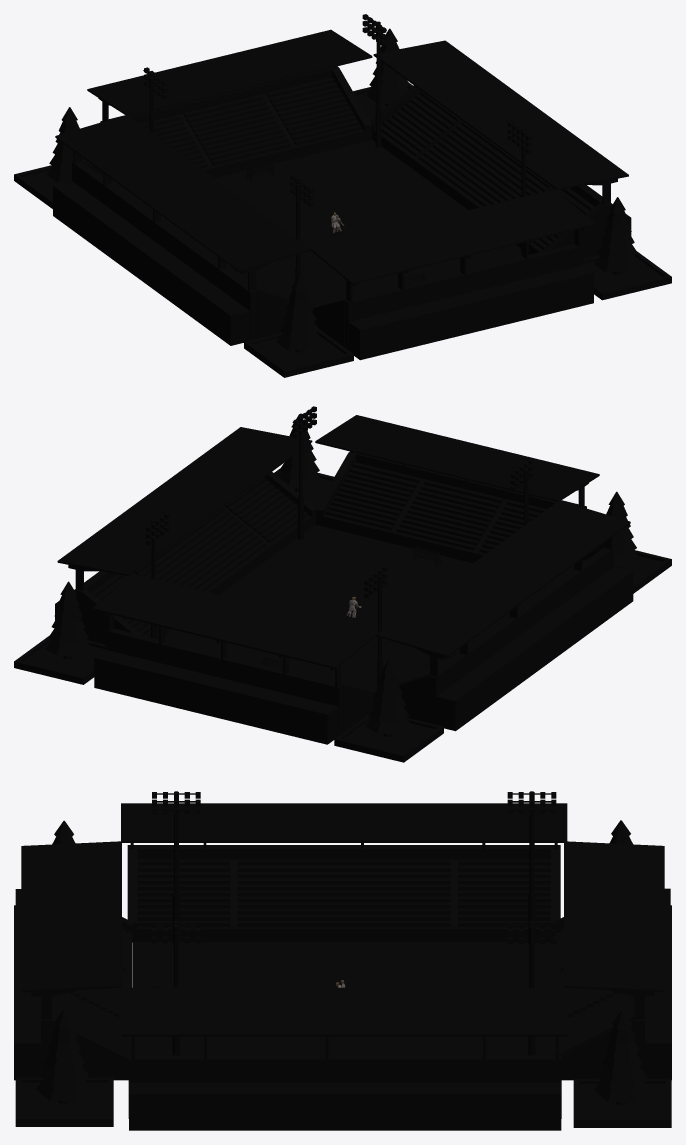
Rendered from Stadium_players2.glb.
3 renders of one model, top to bottom at view 1: azimuth 30°, elevation 25°; view 2: azimuth 150°, elevation 25°; view 3: azimuth 270°, elevation 25°, orthographic. The views are drawn at different scales.
Visible parts, largest first — view 1: Building_Stadium.005, Building_Stadium.003, Building_Stadium.004, Building_Stadium.002, Football Field, Stadium Tree, Stadium Tree16, Stadium Tree8, Stadium Tree17, Stadium Light, Stadium Light3, Stadium Light1 (+1 smaller); view 2: Building_Stadium.005, Building_Stadium.002, Building_Stadium.004, Building_Stadium.003, Football Field, Stadium Tree8, Stadium Tree17, Stadium Tree, Stadium Tree16, Stadium Light1, Stadium Light2, Stadium Light (+1 smaller); view 3: Building_Stadium.005, Building_Stadium.004, Football Field, Building_Stadium.003, Building_Stadium.002, Stadium Tree16, Stadium Tree17, Stadium Light2, Stadium Light3, Stadium Light, Stadium Light1.
Part boxes in pixels (x1,y1,x2,y2): Building_Stadium.005: (53,115,312,345); Building_Stadium.003: (310,189,595,360); Building_Stadium.004: (370,40,631,258); Building_Stadium.002: (87,29,372,178); Football Field: (214,139,529,307); Stadium Tree: (244,274,353,377); Stadium Tree16: (583,197,671,300); Stadium Tree8: (14,107,90,208); Stadium Tree17: (353,28,412,120); Stadium Light: (362,14,386,147); Stadium Light3: (290,174,313,280); Stadium Light1: (508,121,532,255); Building_Stadium.005: (373,500,633,731); Building_Stadium.002: (92,574,376,744); Building_Stadium.004: (55,427,316,644); Building_Stadium.003: (315,415,599,563); Football Field: (158,525,472,692); Stadium Tree8: (334,659,443,762); Stadium Tree17: (14,581,105,684); Stadium Tree: (595,491,671,593); Stadium Tree16: (274,415,333,507); Stadium Light1: (292,406,316,539); Stadium Light2: (364,566,388,687); Stadium Light: (145,513,169,638); Building_Stadium.005: (121,803,567,942); Building_Stadium.004: (122,987,568,1130); Football Field: (132,942,553,1055); Building_Stadium.003: (14,841,131,1080); Building_Stadium.002: (554,841,671,1080); Stadium Tree16: (15,1009,113,1126); Stadium Tree17: (573,1010,671,1127); Stadium Light2: (507,791,556,943); Stadium Light3: (152,791,200,944); Stadium Light: (507,921,556,1055); Stadium Light1: (152,920,200,1055).
Bounding box in the file's own units: 1523 × 460 × 1781.
Materials: 11 (6 with a texture image).
